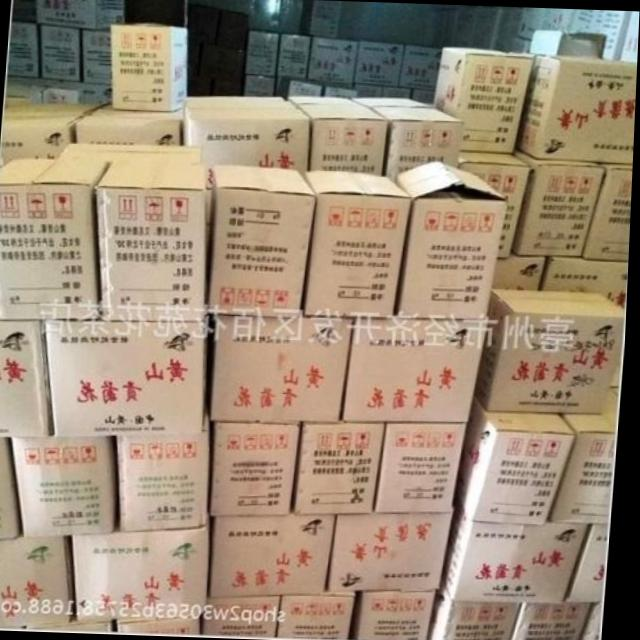box: (180, 106, 314, 316), (44, 318, 211, 435), (476, 289, 627, 415), (98, 158, 212, 320), (0, 156, 113, 317), (395, 161, 504, 318), (444, 492, 595, 605), (209, 168, 317, 318), (304, 172, 411, 318), (209, 317, 354, 423), (460, 395, 581, 521), (344, 318, 488, 421), (515, 54, 638, 164), (76, 524, 212, 623), (15, 431, 120, 538), (210, 512, 339, 598), (329, 508, 456, 593), (120, 423, 217, 532), (512, 147, 606, 258), (434, 46, 532, 149), (552, 387, 621, 524), (293, 421, 392, 513), (377, 420, 471, 512), (212, 420, 303, 515), (456, 149, 531, 260), (0, 535, 84, 626), (368, 105, 464, 184), (110, 22, 189, 113), (0, 318, 57, 435), (300, 105, 392, 174), (1, 102, 94, 170), (541, 257, 631, 314), (583, 164, 634, 262), (433, 592, 528, 640), (355, 593, 443, 640), (69, 110, 183, 144), (282, 593, 359, 640), (569, 524, 610, 604), (208, 596, 286, 637), (516, 603, 595, 640), (55, 140, 207, 158), (0, 436, 26, 539), (531, 29, 606, 58), (494, 251, 547, 290), (184, 95, 301, 111), (119, 616, 208, 635), (287, 95, 368, 106), (350, 95, 433, 105), (587, 602, 608, 640)
